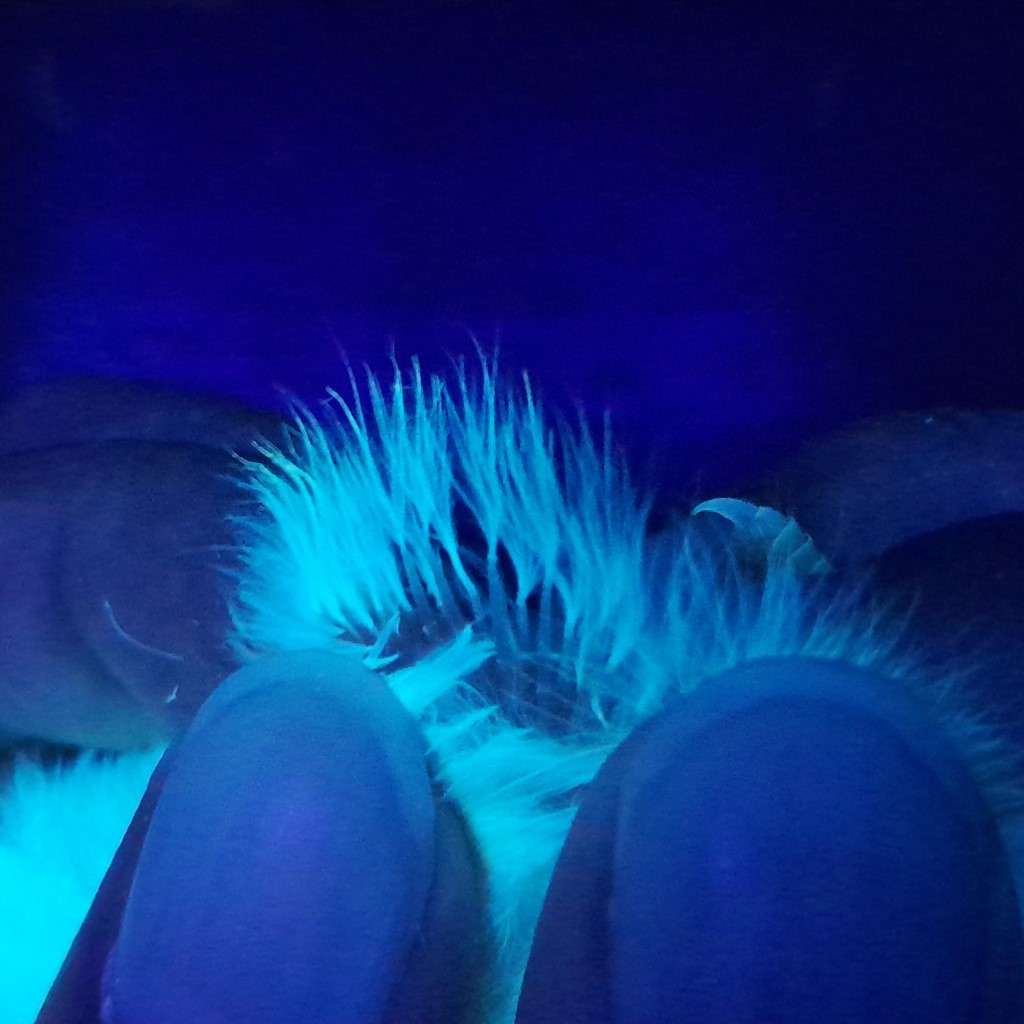male: (333, 489, 672, 778)
